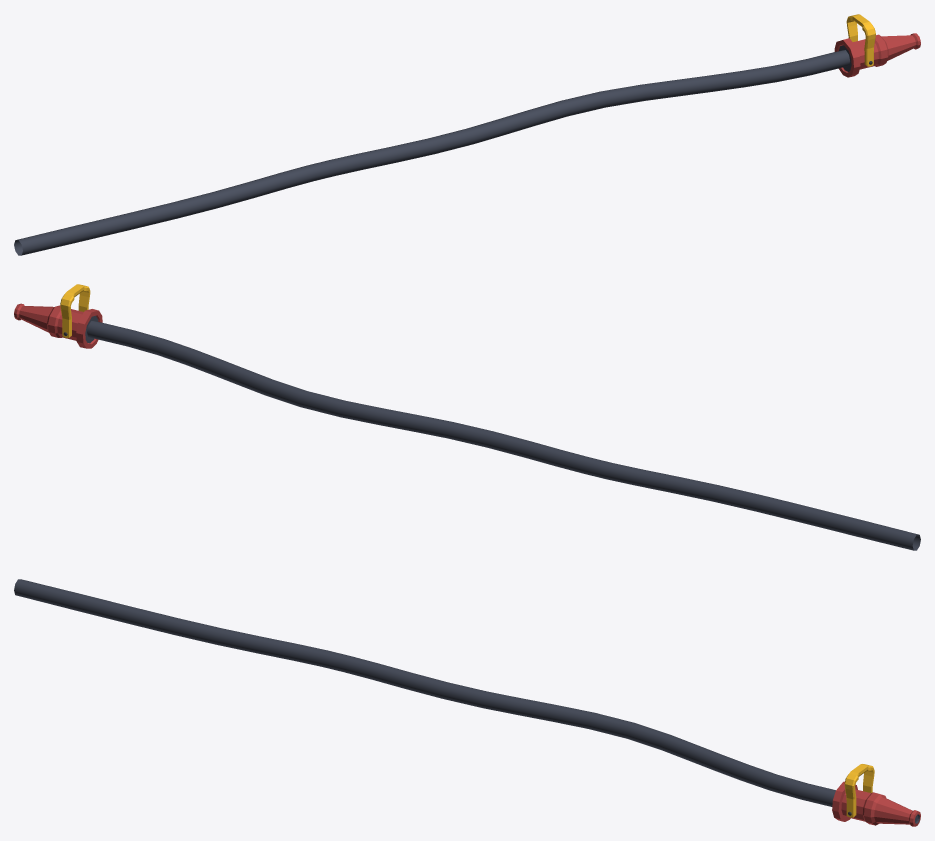
The model's file is hose.fbx.
The picture shows the model from 3 angles, top to bottom: view 1: azimuth 30°, elevation 25°; view 2: azimuth 150°, elevation 25°; view 3: azimuth 330°, elevation 25°; orthographic projection. The views are drawn at different scales.
Parts seen in each view (by area): view 1: pipe, Nozzle; view 2: pipe, Nozzle; view 3: pipe, Nozzle.
Boxes of the visible parts, <box> form: pipe: <box>14,50,849,255</box>; Nozzle: <box>834,14,920,77</box>; pipe: <box>87,321,920,550</box>; Nozzle: <box>14,284,102,348</box>; pipe: <box>14,579,835,806</box>; Nozzle: <box>832,764,920,826</box>.
Bounding box in the file's own units: 4.5 × 0.2939 × 0.2569.
Materials: 1 (1 with a texture image).
